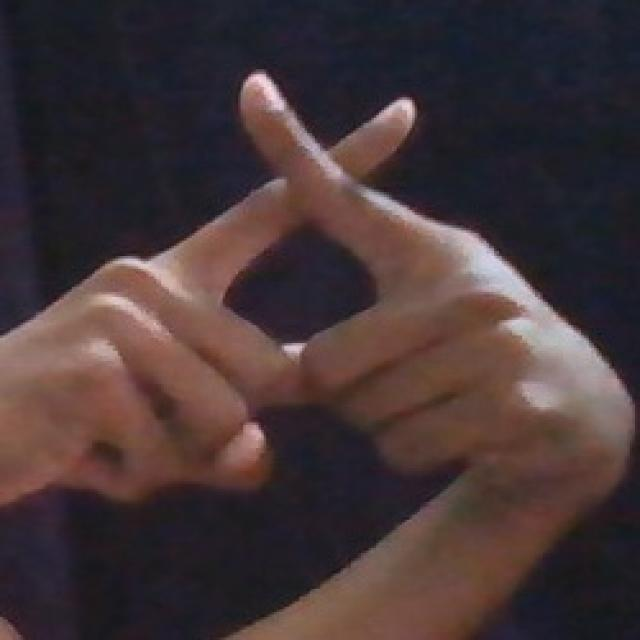Alphabet-X: (18, 68, 594, 556), (596, 597, 597, 600)
